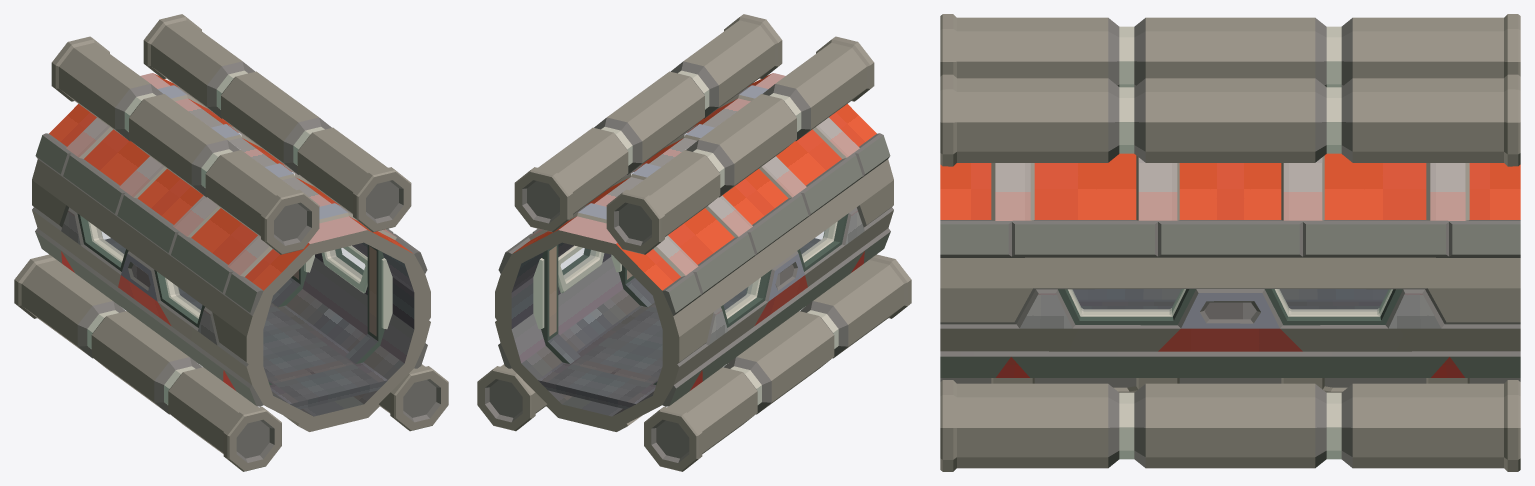
The model's file is entity108612.glb.
3 views of the same model, side by side, from view 1: azimuth 30°, elevation 25°; view 2: azimuth 150°, elevation 25°; view 3: azimuth 270°, elevation 25° (orthographic). The views are drawn at different scales.
Visible parts, largest first — view 1: node_SM_Bld_Pod_Corridor_Round_05 (1), node_SM_Bld_Pod_Corridor_Round_05_Glass_01; view 2: node_SM_Bld_Pod_Corridor_Round_05 (1), node_SM_Bld_Pod_Corridor_Round_05_Glass_01; view 3: node_SM_Bld_Pod_Corridor_Round_05 (1), node_SM_Bld_Pod_Corridor_Round_05_Glass_01.
Part boxes in pixels (x1=…): node_SM_Bld_Pod_Corridor_Round_05 (1): x1=14, y1=14, x2=448, y2=471; node_SM_Bld_Pod_Corridor_Round_05_Glass_01: x1=97, y1=228, x2=364, y2=312; node_SM_Bld_Pod_Corridor_Round_05 (1): x1=477, y1=14, x2=911, y2=471; node_SM_Bld_Pod_Corridor_Round_05_Glass_01: x1=561, y1=228, x2=828, y2=312; node_SM_Bld_Pod_Corridor_Round_05 (1): x1=940, y1=14, x2=1520, y2=471; node_SM_Bld_Pod_Corridor_Round_05_Glass_01: x1=1072, y1=289, x2=1388, y2=310.
Size of the model in its own units: 5.94 by 6.81 by 10.
Materials: 2 (2 with a texture image).
